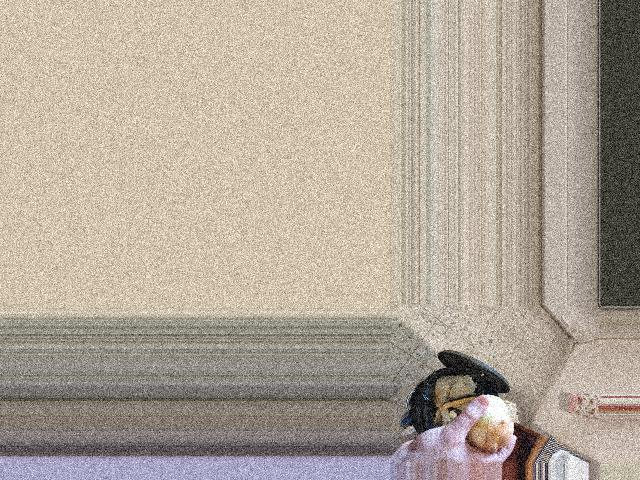onion: (461, 398, 515, 447)
